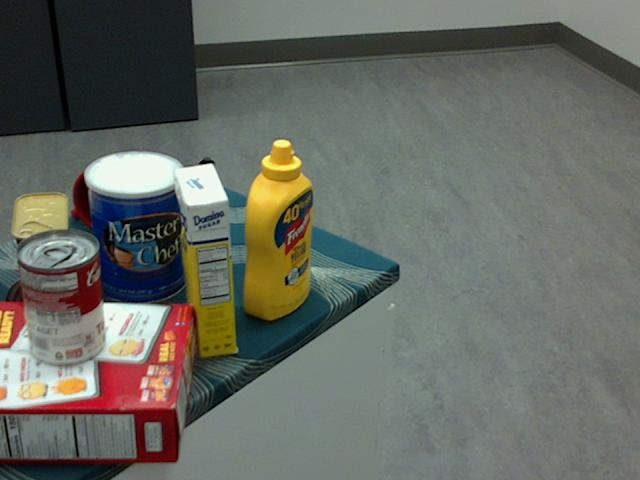cracker_box: (0, 298, 194, 462)
large_marker: (199, 156, 218, 250)
master_chef_can: (82, 151, 186, 306)
mug: (71, 152, 163, 238)
mustard_bottle: (241, 138, 313, 319)
potted_meat_can: (12, 190, 73, 300)
sugar_box: (174, 161, 236, 358)
tomato_soup_can: (15, 229, 104, 366)
tuna_fish_can: (5, 261, 98, 349)
